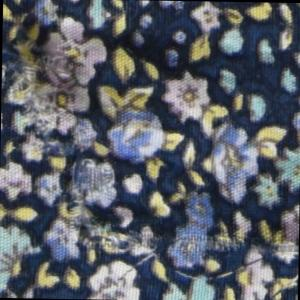Damage: (1, 27, 120, 199), (62, 207, 300, 268)
